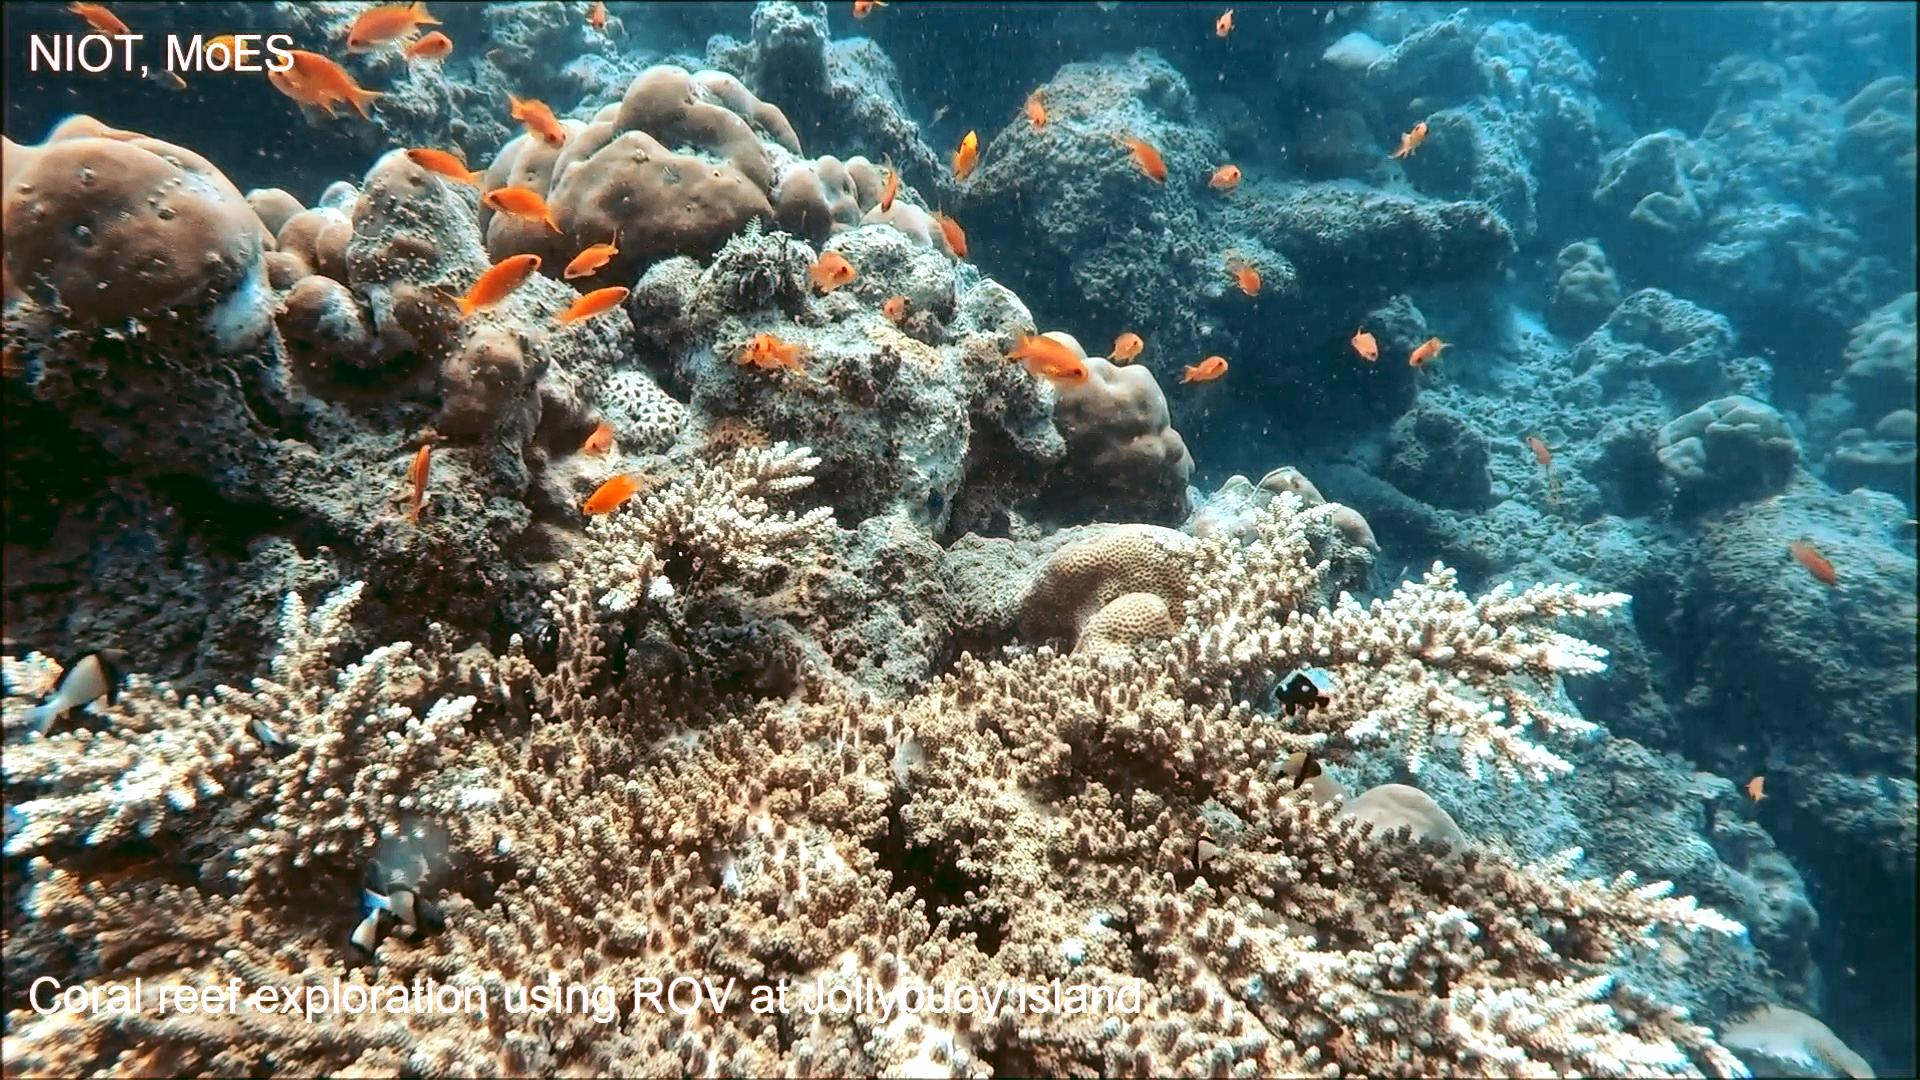Porites-Porites pukoensis: (471, 58, 839, 273), (0, 103, 276, 359)
